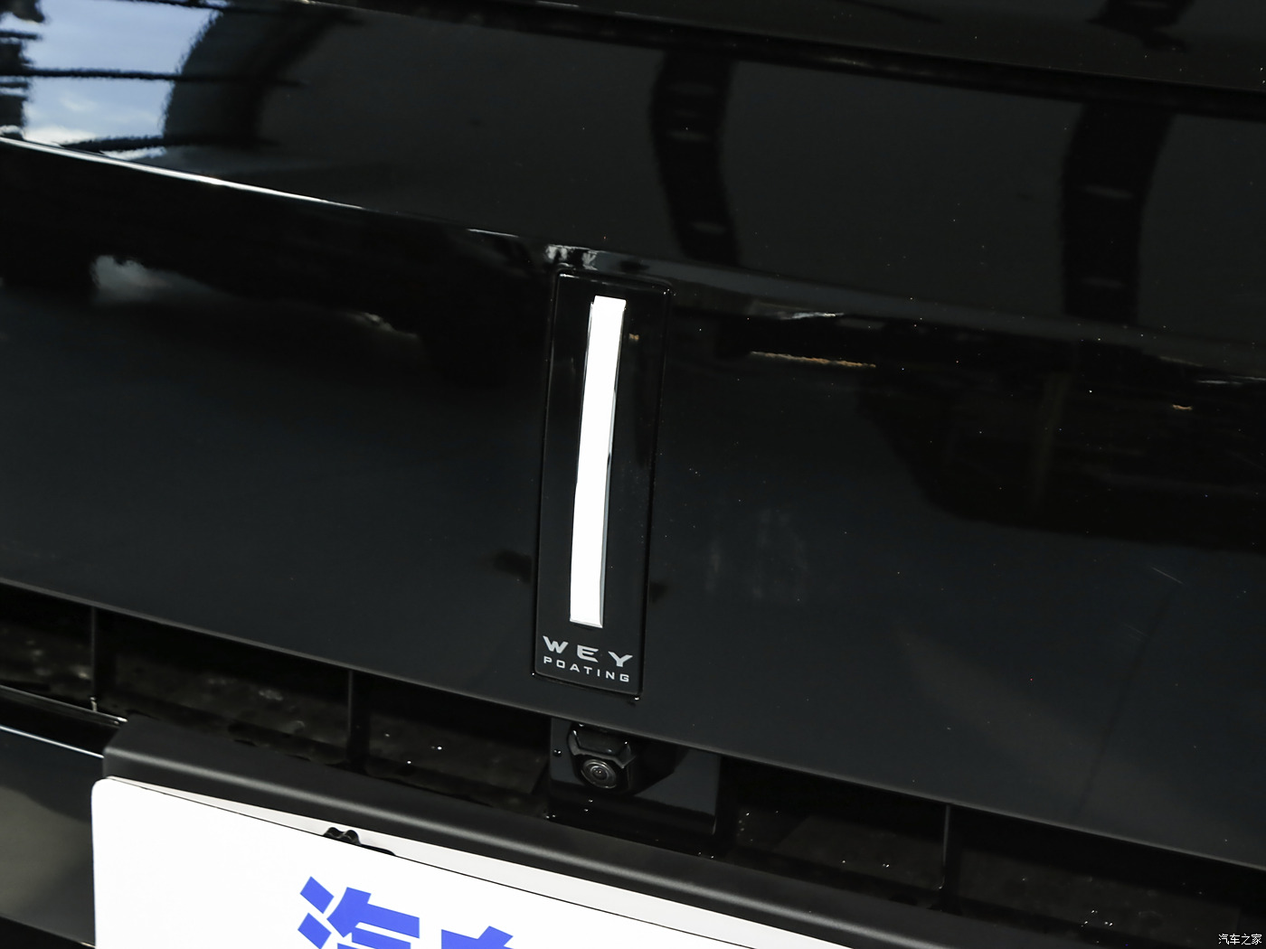WEY: (535, 276, 664, 692)
